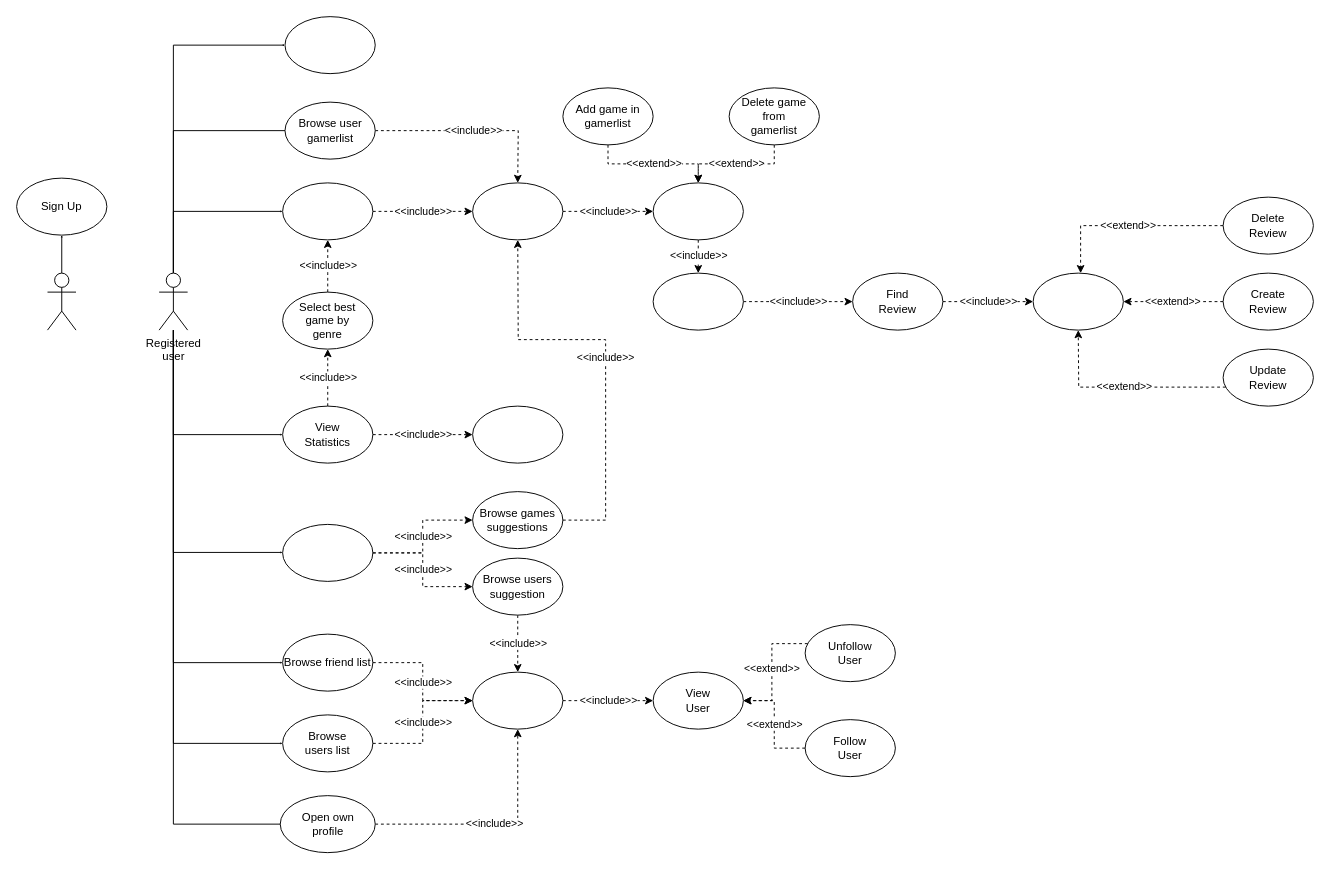
Some shapes in this 1330 by 869 pixel diagram are drawn without their labels. Here are the shapes that lost their labels. From the top down, the box of each, then its label:
(284, 16, 375, 74): Login/Logout
(282, 182, 373, 240): Browse Games
(472, 182, 563, 240): Find Game
(652, 182, 743, 240): View Game
(47, 272, 76, 330): Unregistered user
(652, 272, 743, 330): Browse Reviews
(1032, 272, 1123, 330): View Review
(472, 405, 563, 463): View user percentile
(282, 523, 373, 581): View Sugestion
(472, 671, 563, 729): Find User
